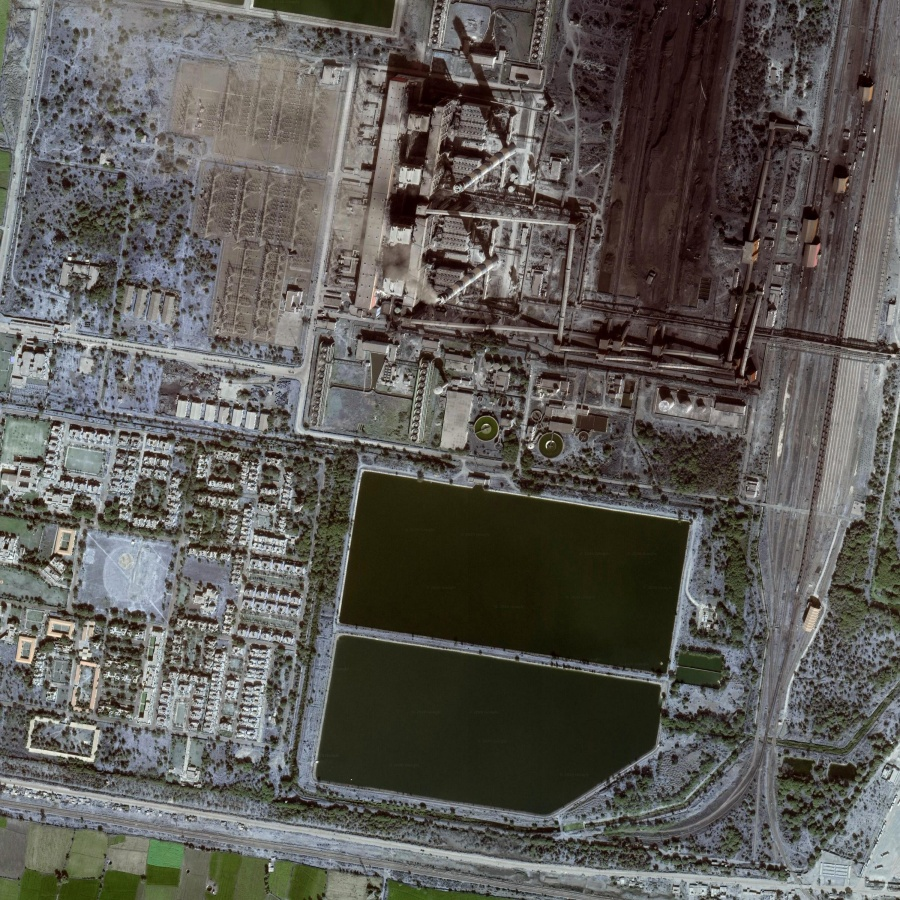PowerPlant: (287, 439, 707, 845)
